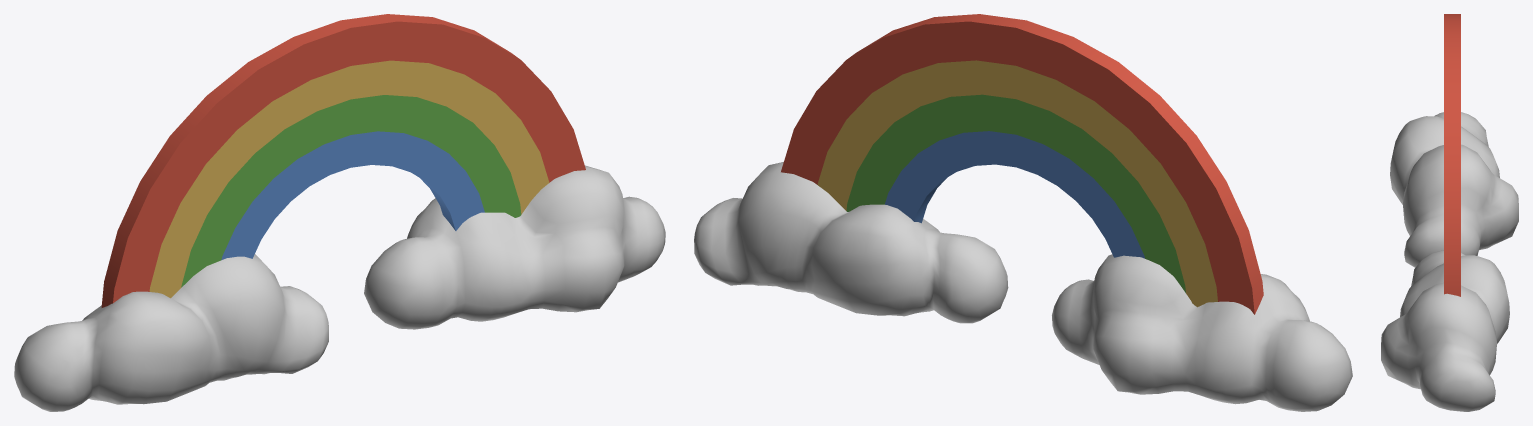
File: Rainbow_01.fbx
3 renders of one model, left to right at view 1: azimuth 30°, elevation 25°; view 2: azimuth 150°, elevation 25°; view 3: azimuth 270°, elevation 25°, orthographic. The views are drawn at different scales.
Visible parts, largest first — view 1: Rainbow_01; view 2: Rainbow_01; view 3: Rainbow_01.
Boxes of the visible parts, bbox=[...] form: Rainbow_01: bbox=[14, 14, 665, 411]; Rainbow_01: bbox=[694, 14, 1352, 411]; Rainbow_01: bbox=[1381, 14, 1518, 411].
Size of the model in its own units: 0.9093 by 0.4289 by 0.2056.
